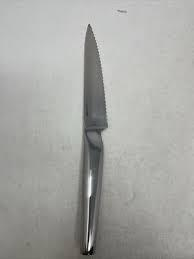Knife: (79, 23, 108, 255)
